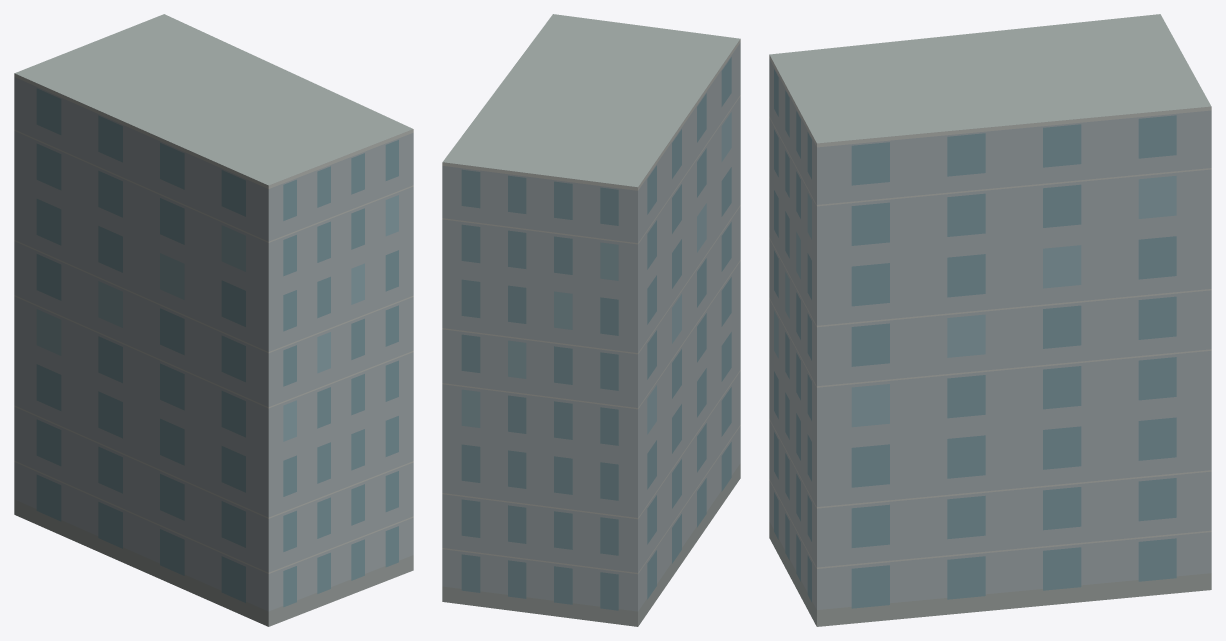
File: survey-upis-32802603.glb
3 views of the same model, side by side, from view 1: azimuth 30°, elevation 25°; view 2: azimuth 150°, elevation 25°; view 3: azimuth 270°, elevation 25° (orthographic). The views are drawn at different scales.
Visible parts, largest first — view 1: survey-upis-32802603.tmp; view 2: survey-upis-32802603.tmp; view 3: survey-upis-32802603.tmp.
Boxes of the visible parts, x1,y1,x2,y2 form: survey-upis-32802603.tmp: (14,14,413,626); survey-upis-32802603.tmp: (442,14,740,626); survey-upis-32802603.tmp: (769,14,1211,626).
Bounding box in the file's own units: 17.02 × 29.6 × 24.56.
